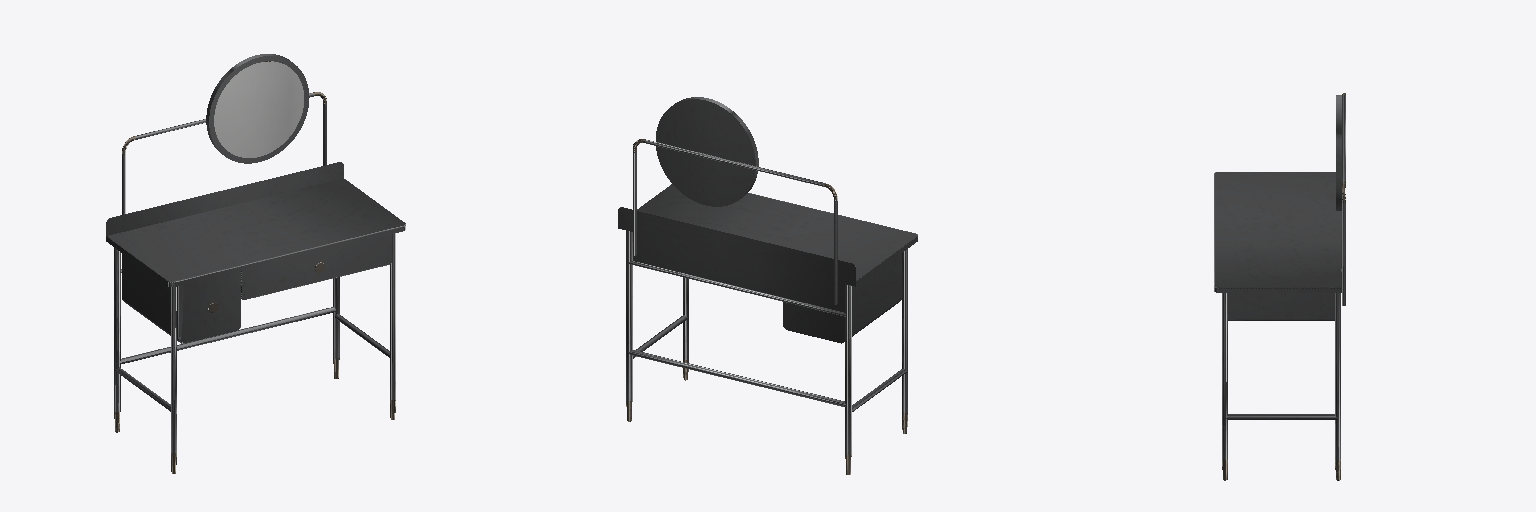
3 views of the same model, side by side, from view 1: azimuth 30°, elevation 25°; view 2: azimuth 150°, elevation 25°; view 3: azimuth 270°, elevation 25° (orthographic).
Visible parts, largest first — view 1: solid_002, solid_001, solid_003; view 2: solid_002, solid_003; view 3: solid_002.
Boxes of the visible parts, <box> form: solid_002: <box>106,54,405,453</box>; solid_001: <box>214,61,303,157</box>; solid_003: <box>114,92,395,473</box>; solid_002: <box>618,97,917,454</box>; solid_003: <box>626,139,907,474</box>; solid_002: <box>1214,95,1345,459</box>.
Size of the model in its own units: 1.07 by 1.46 by 0.517.
Materials: 1 (1 with a texture image).